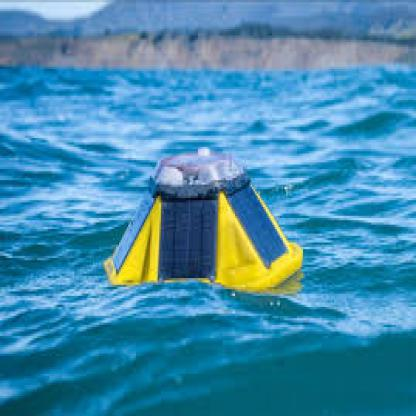buoy: (97, 140, 308, 303)
